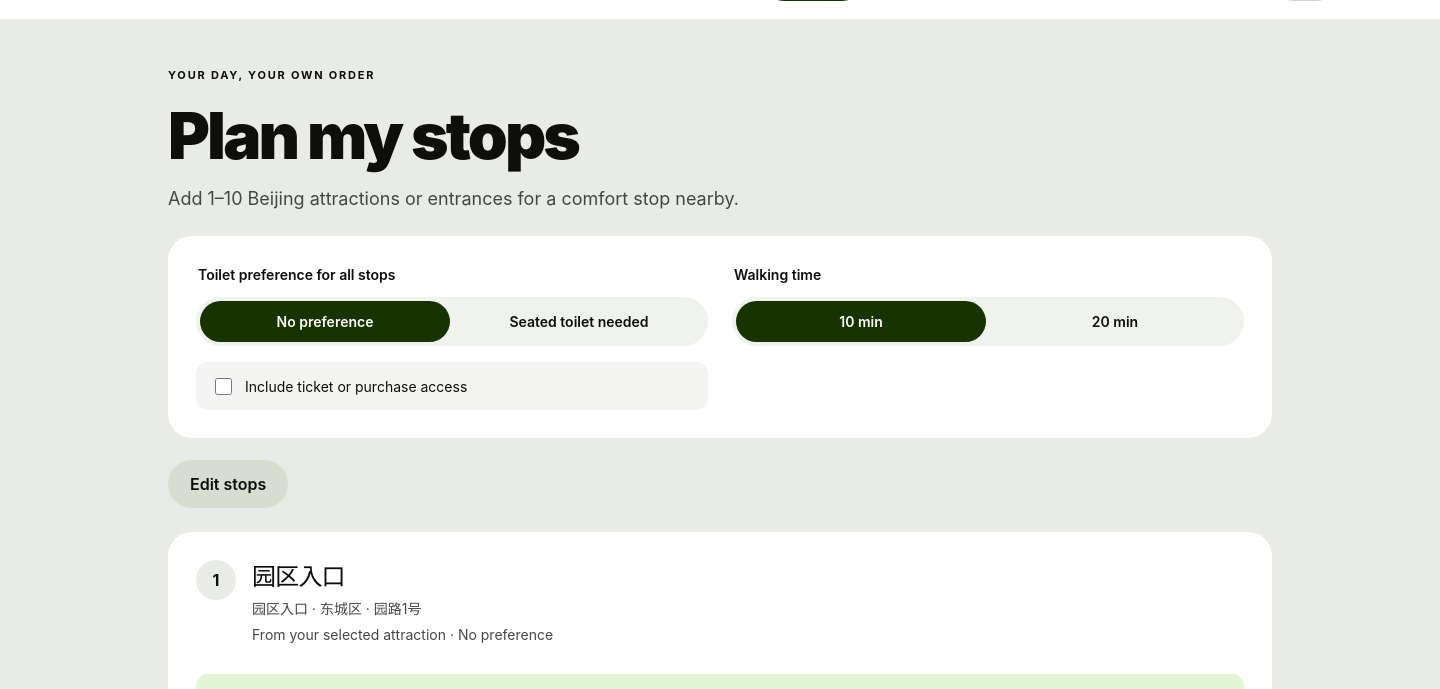
it: canonical identities preserve the same chosen toilet at two stops while changed conditions await later pages
Click the button "Seated toilet needed" at (579, 322), box [454,301,704,342]
(page scrolled)
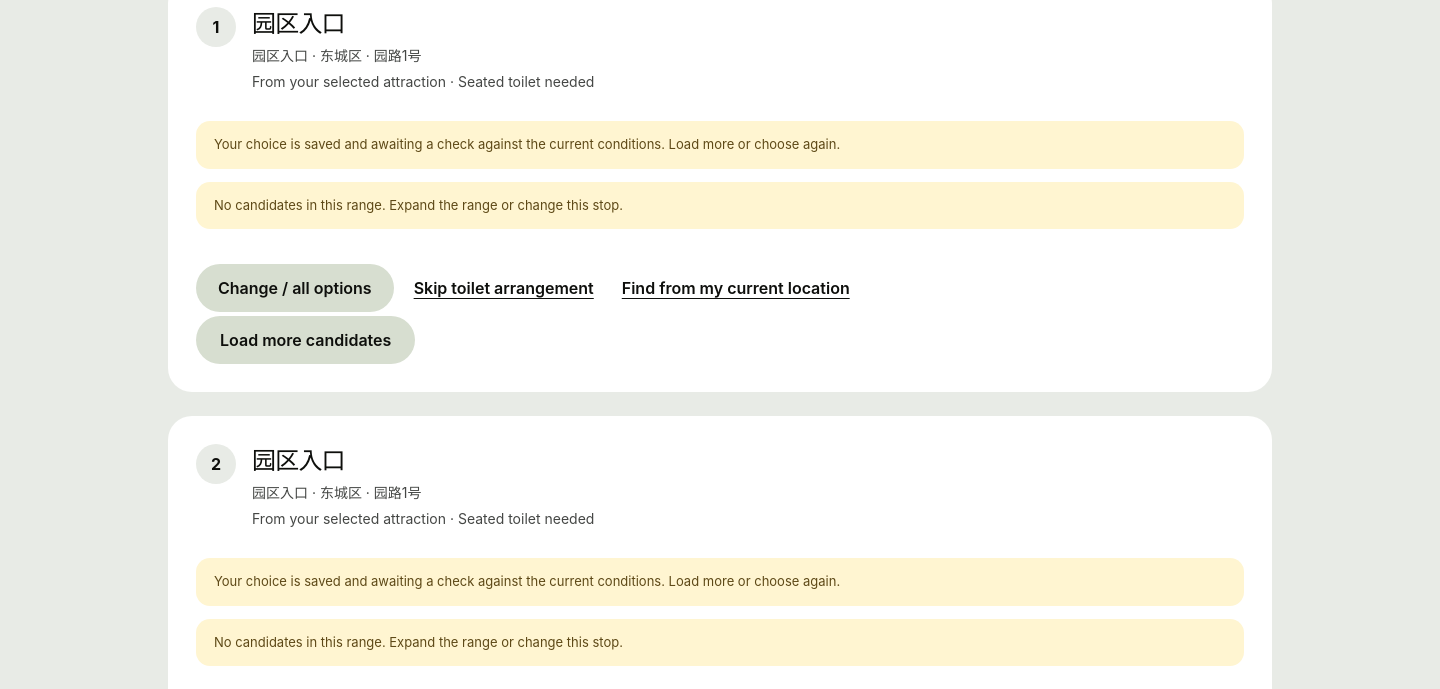
Click the button "Load more candidates" at (306, 340), box [196,316,415,364]
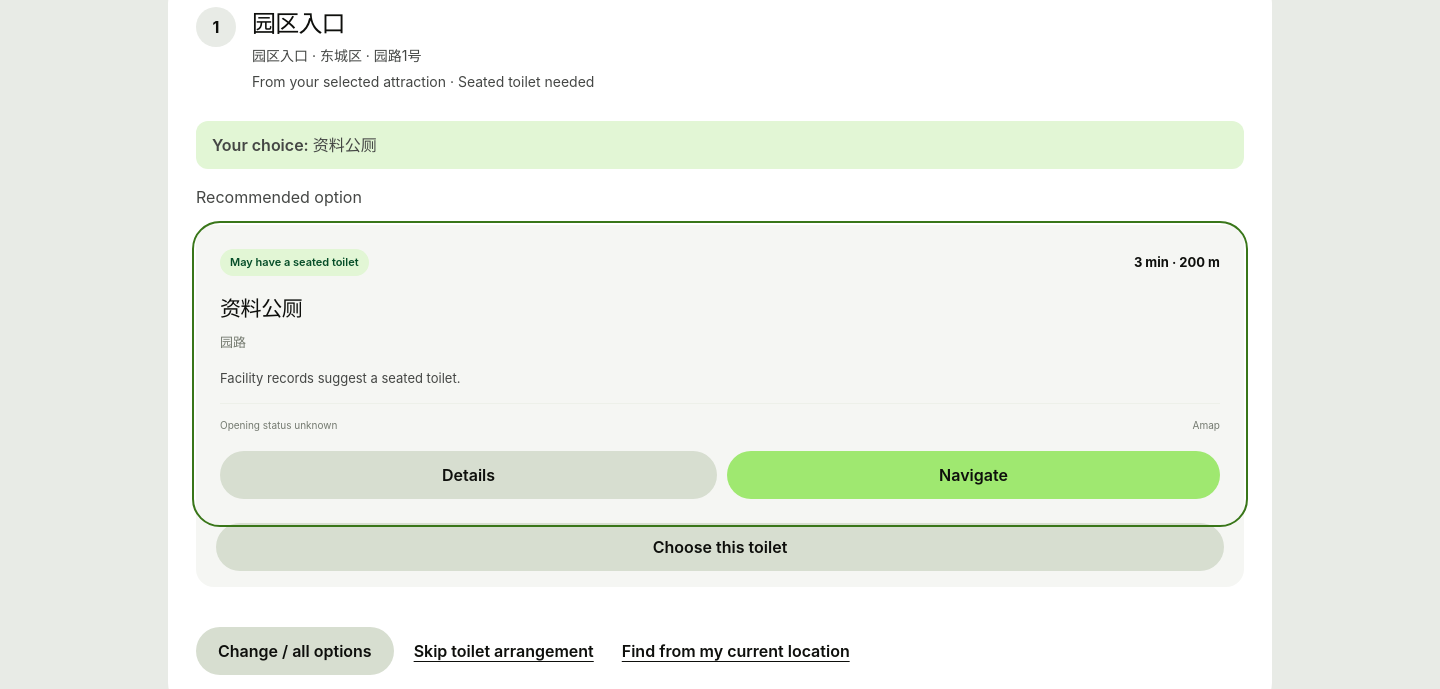
Check: the element "资料公厕" is shown, box [196,225,1244,587]
